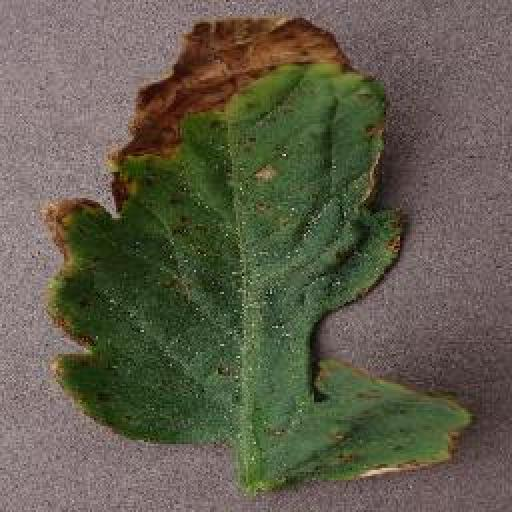Bacterial Spot: (29, 10, 479, 491)
